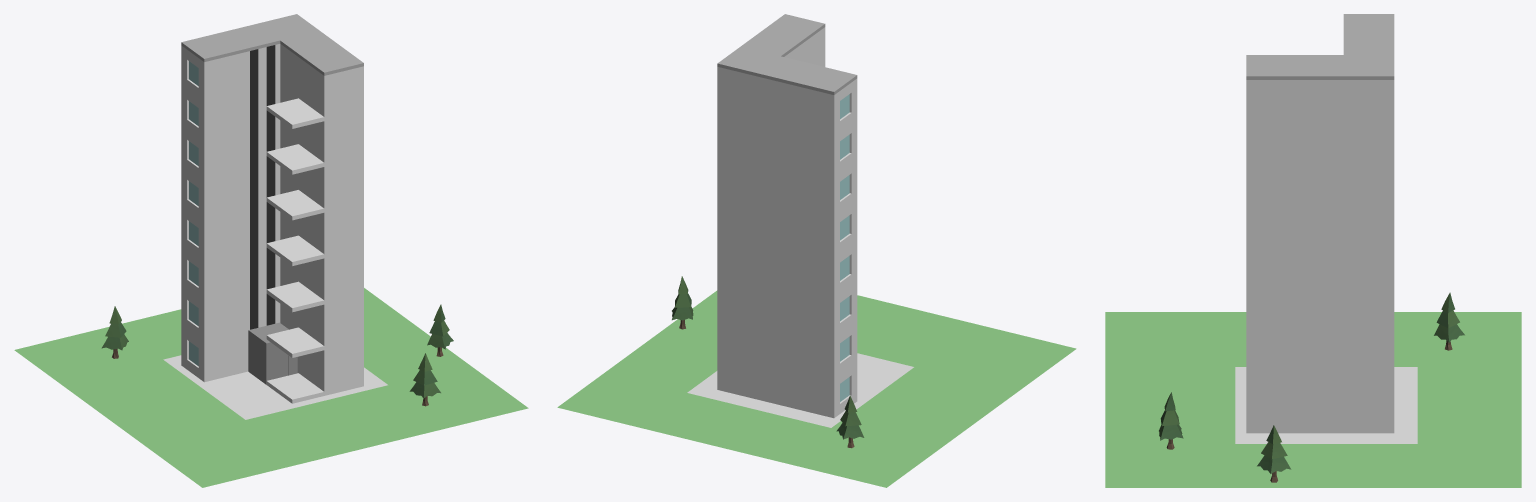
Rendered from elevator.glb.
3 views of the same model, side by side, from view 1: azimuth 30°, elevation 25°; view 2: azimuth 150°, elevation 25°; view 3: azimuth 270°, elevation 25° (orthographic). The views are drawn at different scales.
Visible parts, largest first — view 1: Tower, Plane, Elevator, tree-spruce.001, tree-spruce, tree-spruce.002; view 2: Tower, Plane, tree-spruce, tree-spruce.002; view 3: Tower, Plane, tree-spruce.002, tree-spruce, tree-spruce.001.
Part boxes in pixels (box(x1,y1,x2,y2)): Tower: box(181, 14, 363, 403); Plane: box(14, 288, 528, 487); Elevator: box(248, 322, 297, 384); tree-spruce.001: box(409, 353, 440, 406); tree-spruce: box(101, 306, 128, 358); tree-spruce.002: box(427, 304, 453, 356); Tower: box(717, 14, 857, 418); Plane: box(557, 290, 1076, 487); tree-spruce: box(836, 395, 864, 448); tree-spruce.002: box(672, 276, 693, 329); Tower: box(1246, 14, 1394, 433); Plane: box(1105, 312, 1521, 487); tree-spruce.002: box(1257, 425, 1291, 482); tree-spruce: box(1434, 292, 1464, 350); tree-spruce.001: box(1159, 392, 1183, 449).
Bounding box in the file's own units: 16.44 × 15.56 × 16.44.
Materials: 7 (1 with a texture image).
